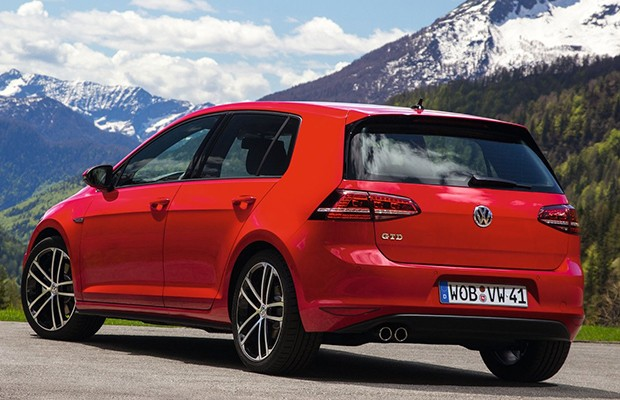Carro: (17, 98, 586, 389)
